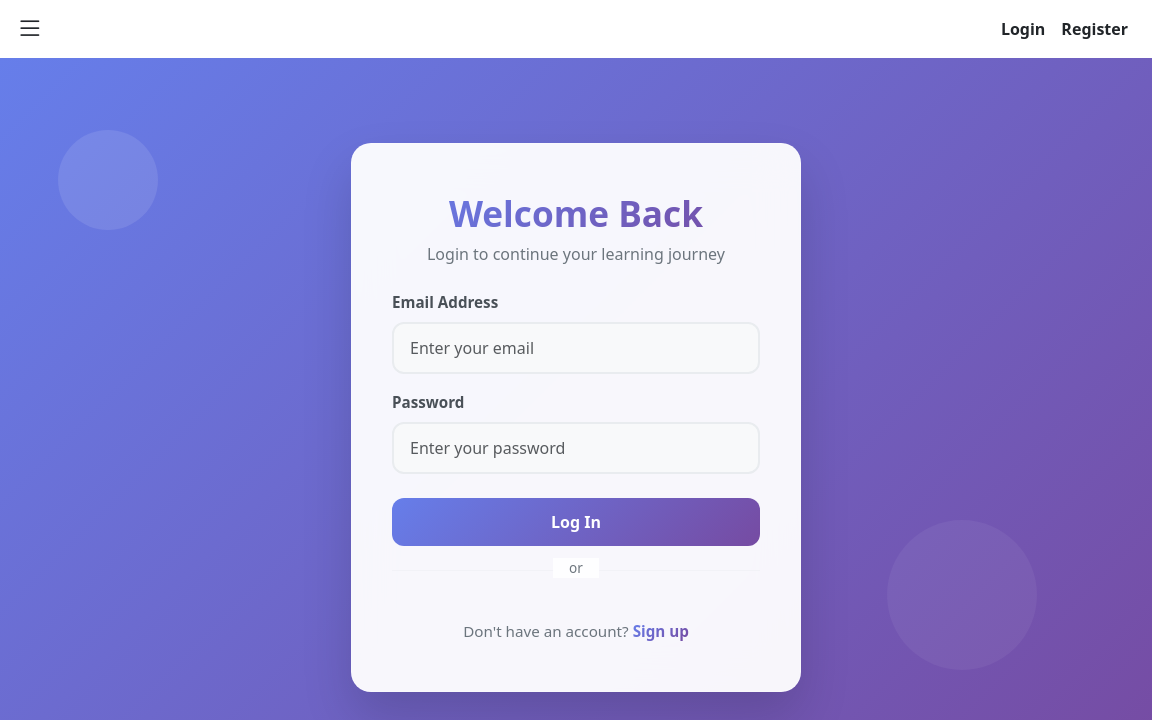
Test: Login Component › Form Submission › should show error message on failed login
Step 1. Type "test@example.com" into the field with placeholder "Enter your email" → {"x": 576, "y": 348}, box [392,322,760,374]
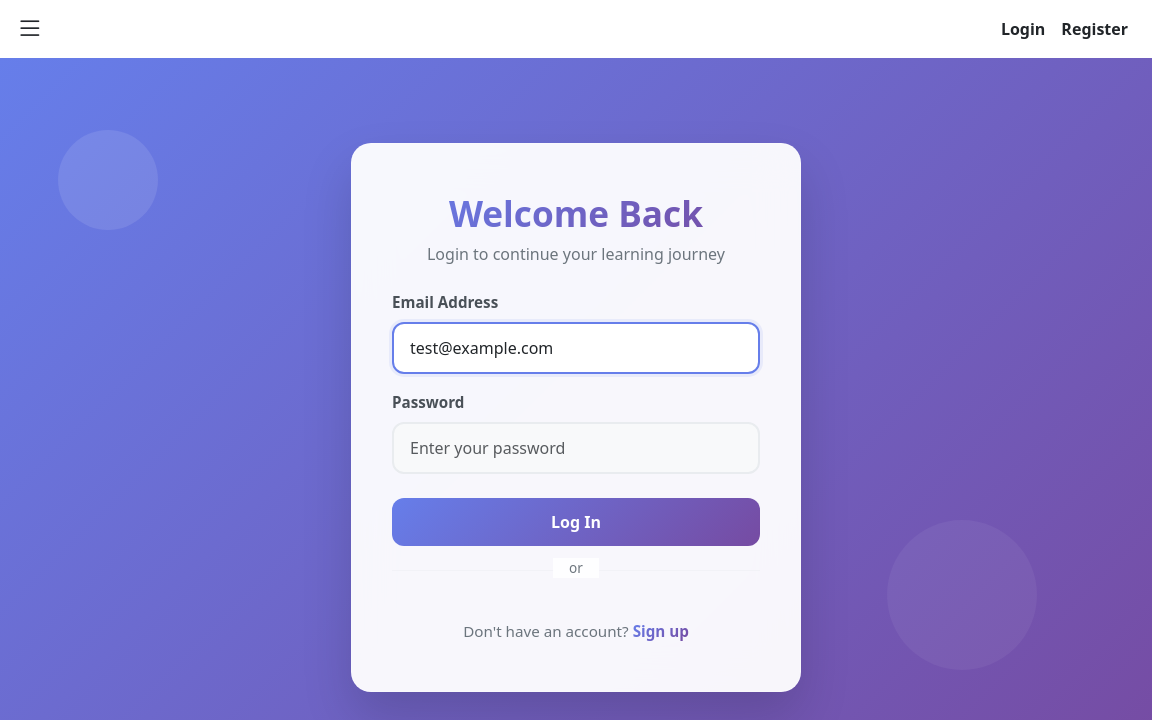
Step 2. Type "wrongpassword" into the password field with placeholder "Enter your password" → {"x": 576, "y": 448}, box [392,422,760,474]
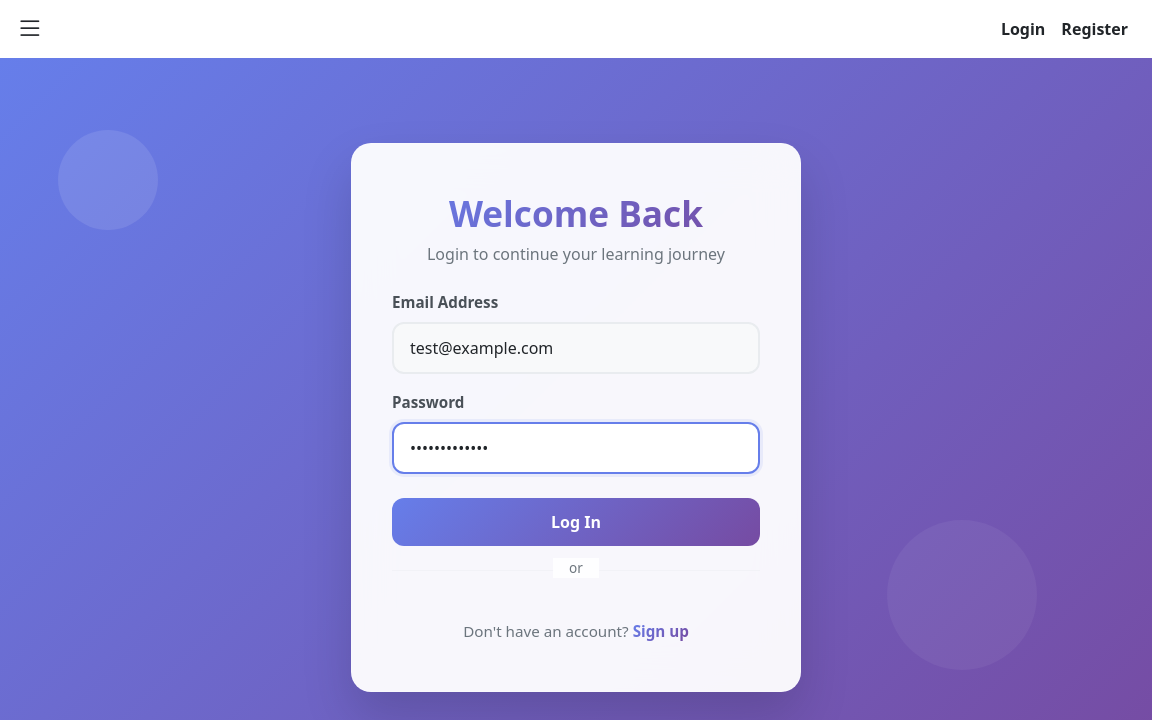
Step 3. Submit the form, box [392,290,760,546]
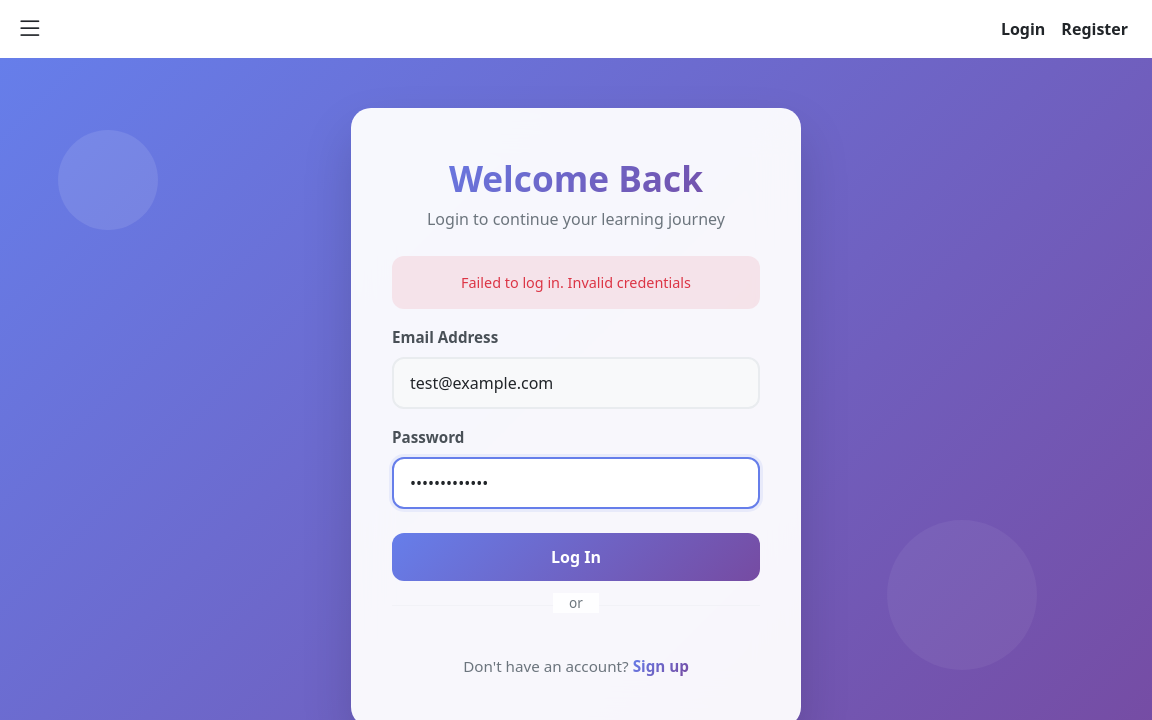
Expected: the text "Failed to log in. Invalid credentials" is shown, [392,256,760,309]
